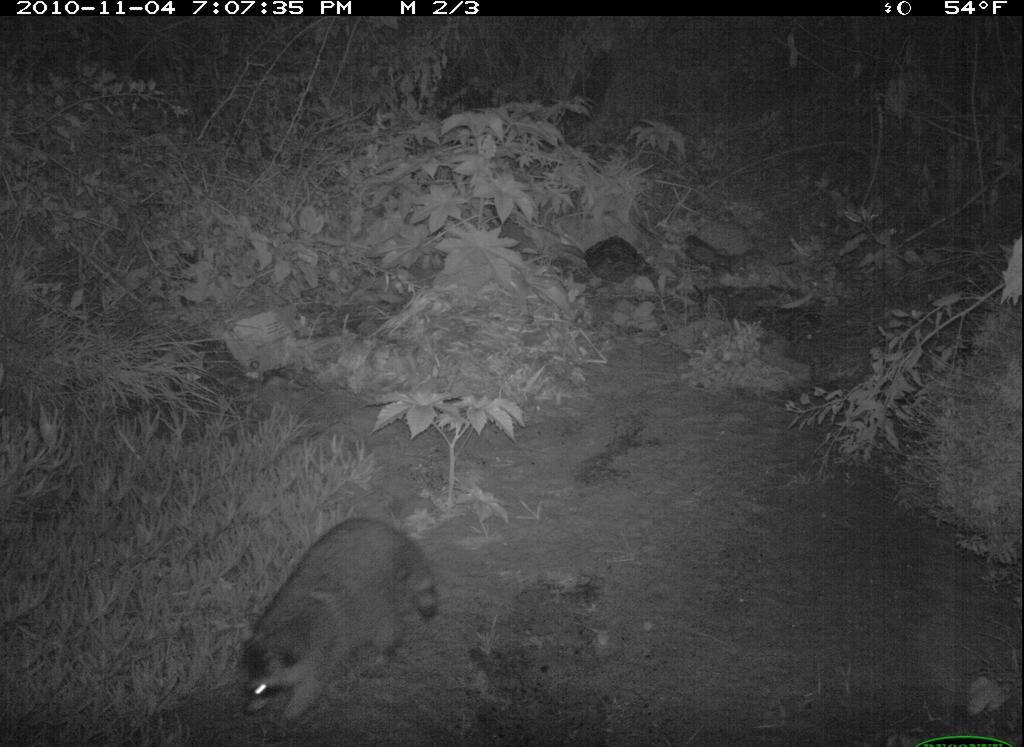raccoon: (231, 504, 447, 745)
